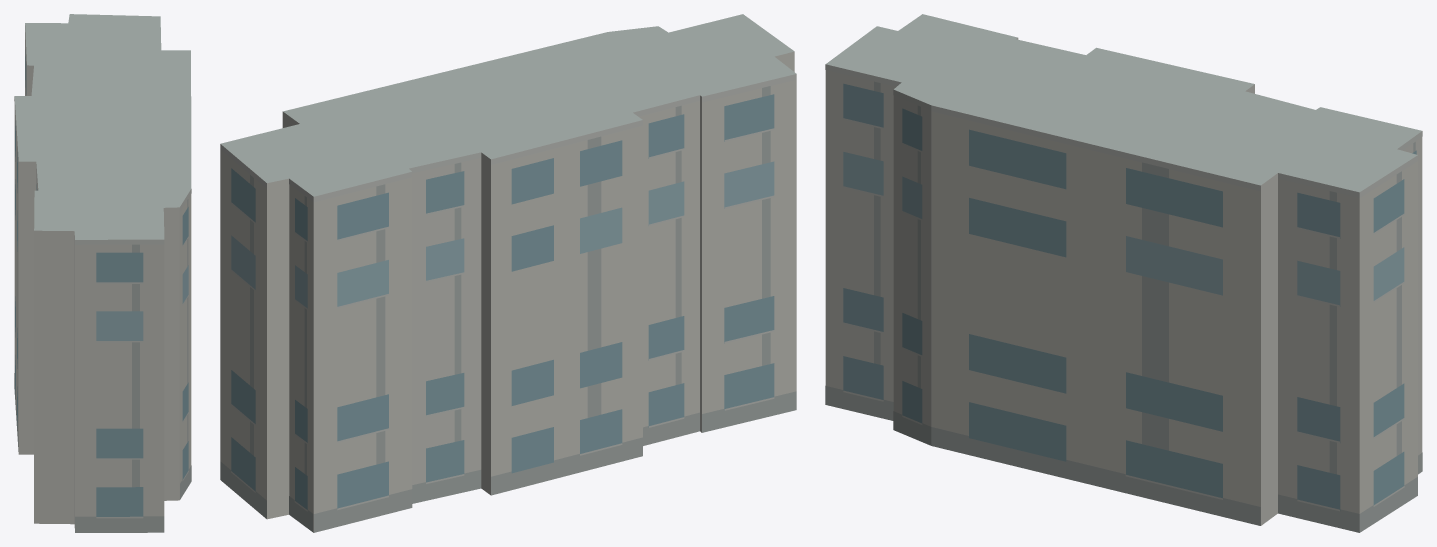
File: survey-upis-32812890.glb
The picture shows the model from 3 angles, left to right: view 1: azimuth 30°, elevation 25°; view 2: azimuth 150°, elevation 25°; view 3: azimuth 270°, elevation 25°; orthographic projection. The views are drawn at different scales.
Parts seen in each view (by area): view 1: survey-upis-32812890.tmp; view 2: survey-upis-32812890.tmp; view 3: survey-upis-32812890.tmp.
Boxes of the visible parts, x1,y1,x2,y2 form: survey-upis-32812890.tmp: (14, 14, 191, 532); survey-upis-32812890.tmp: (220, 14, 796, 532); survey-upis-32812890.tmp: (825, 14, 1422, 532).
Bounding box in the file's own units: 16.18 × 14.4 × 22.88.
